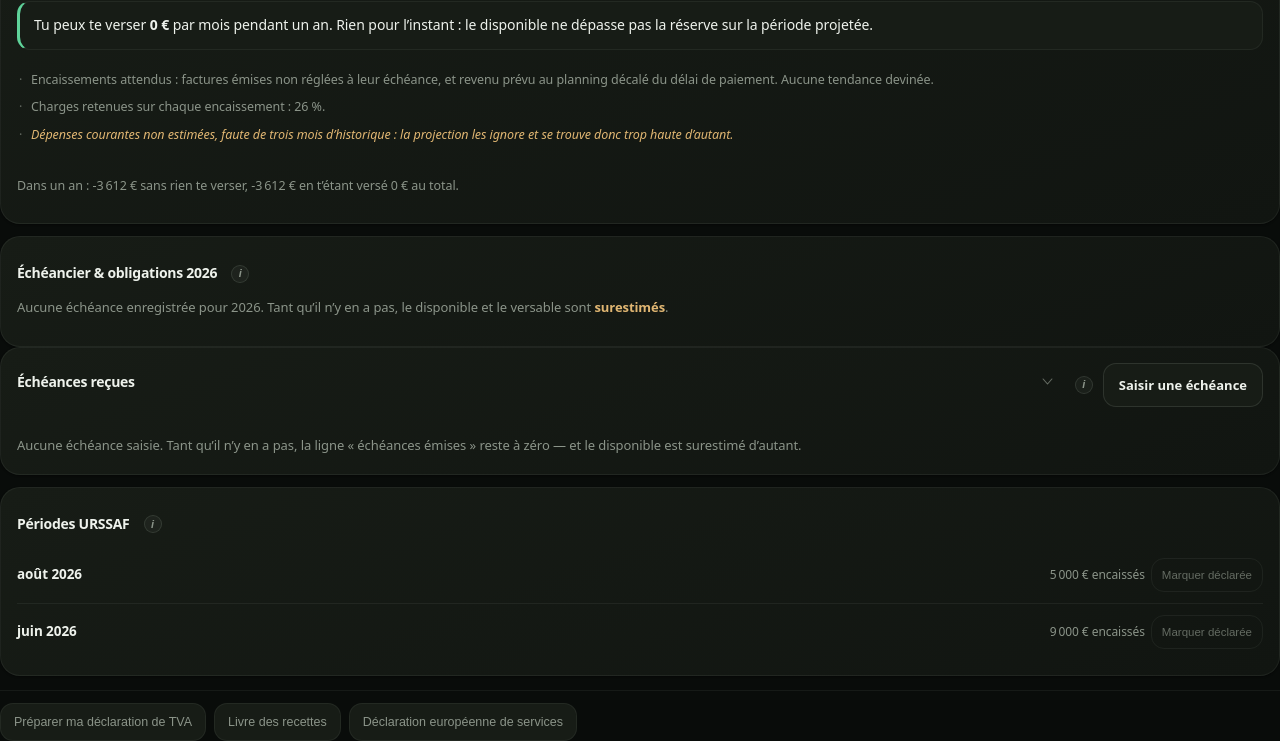
dossier de déclaration de TVA › retient la date d’encaissement, pas celle d’émission
The image size is (1280, 741).
(page scrolled)
Click the button "Préparer ma déclaration de TVA". click: (103, 722)
box: [0,702,206,740]
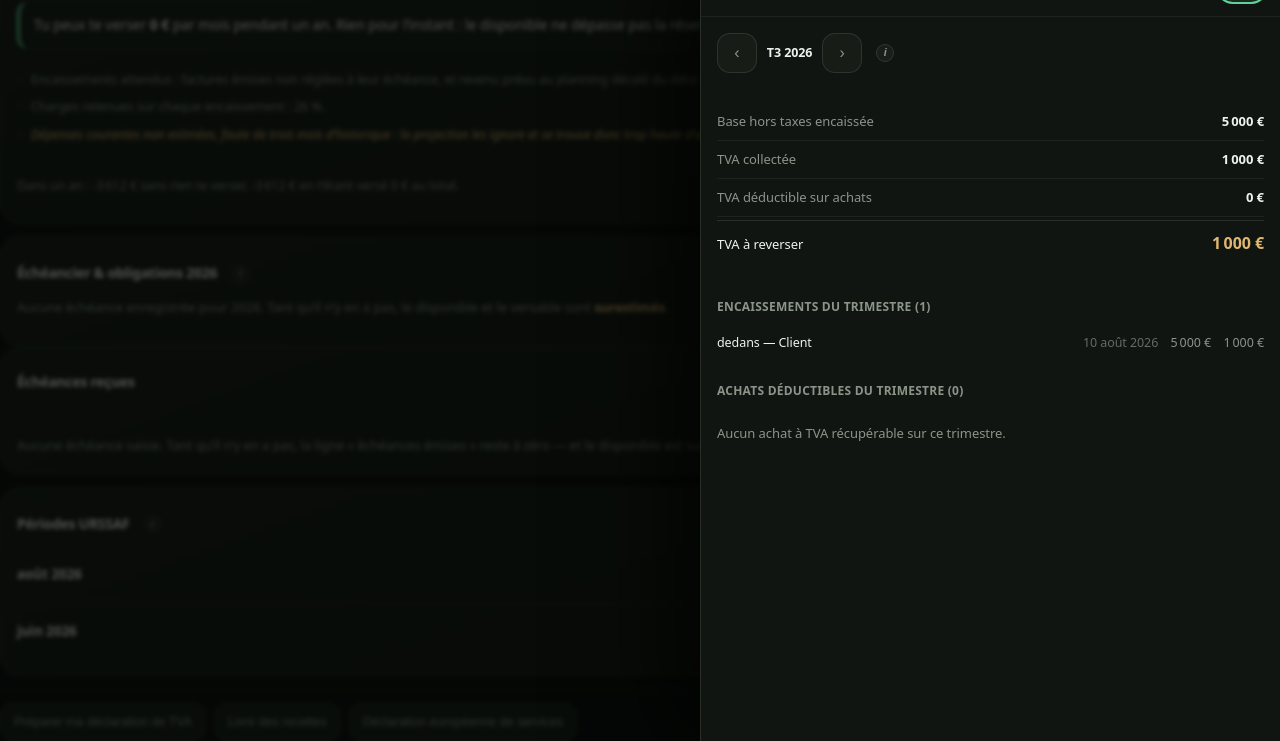
Check: the heading "Encaissements du trimestre (1)" is shown, box [717,298,931,315]
